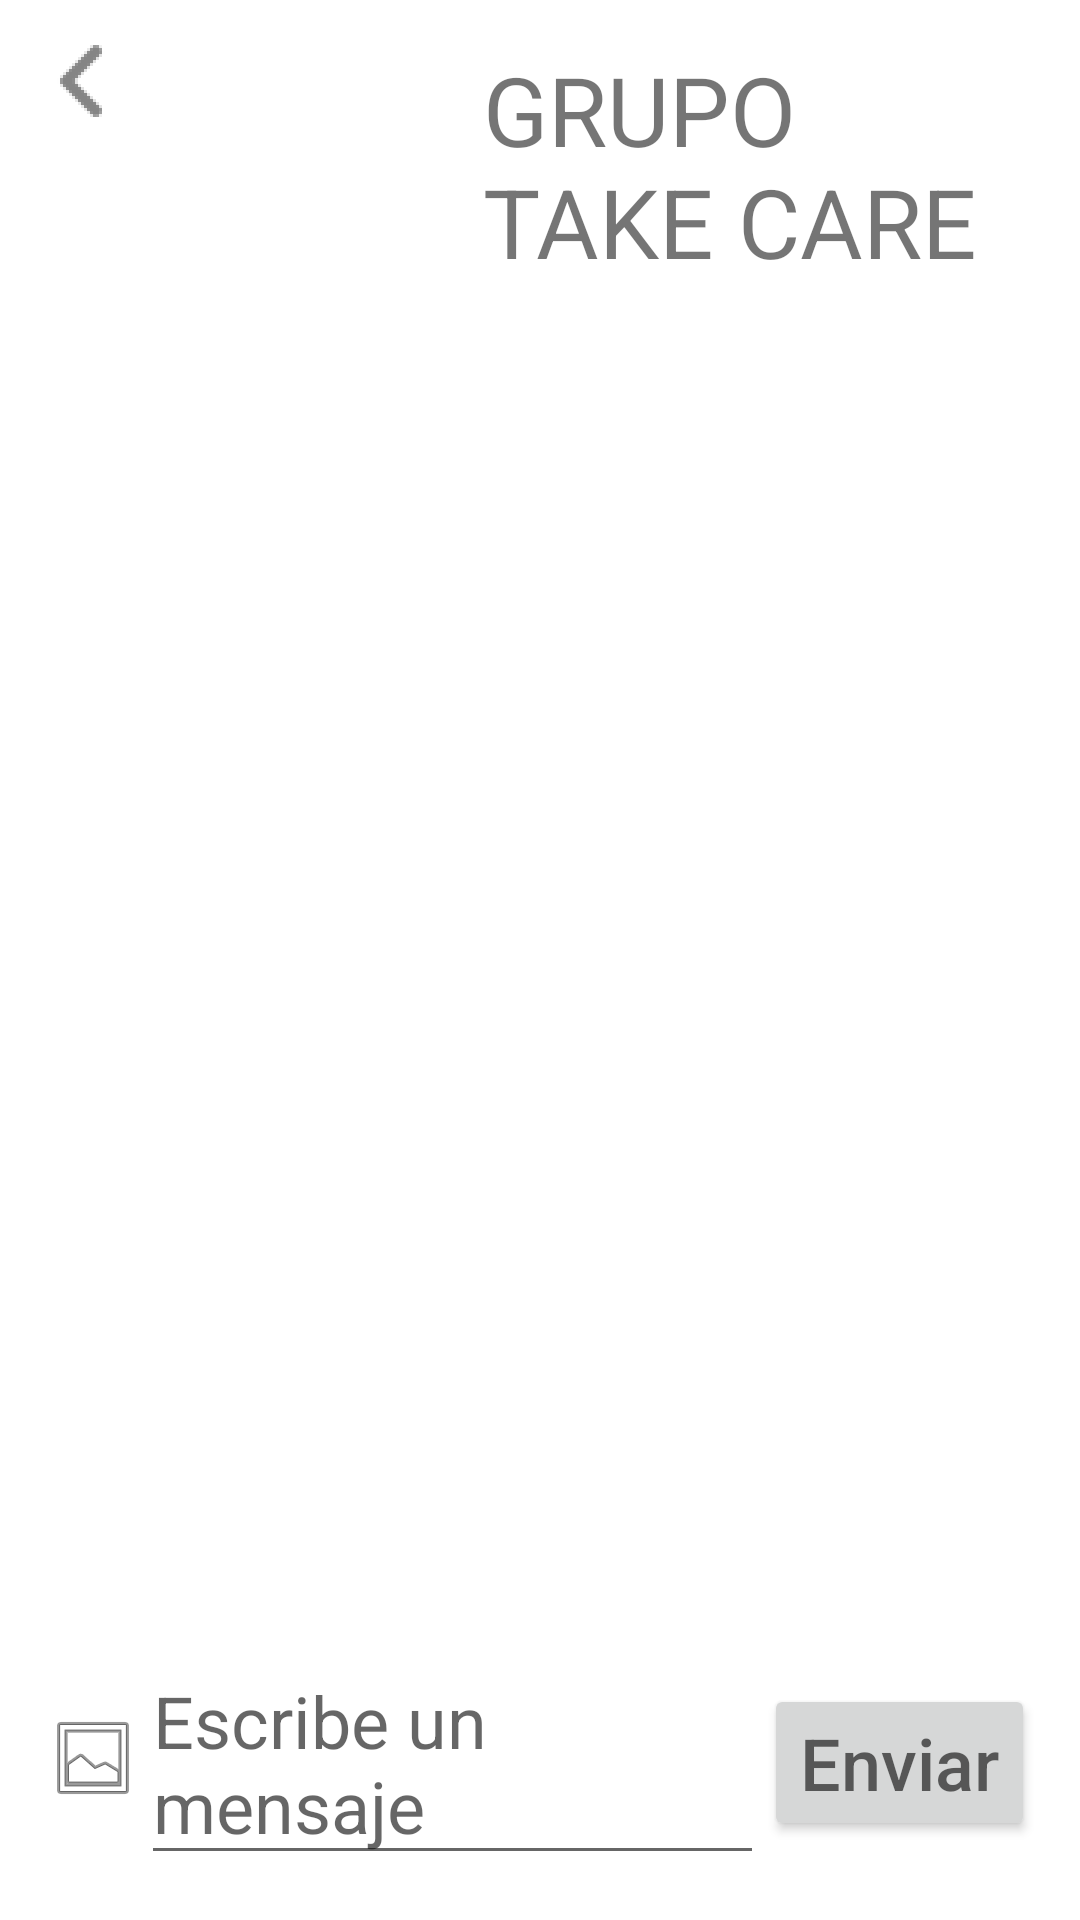

Icon bounding boxes for this 1080px x 1920px phone screenshot, format (x1, y1, x2, y2):
gallery: (57, 1722, 129, 1794)
volver: (60, 45, 102, 117)
